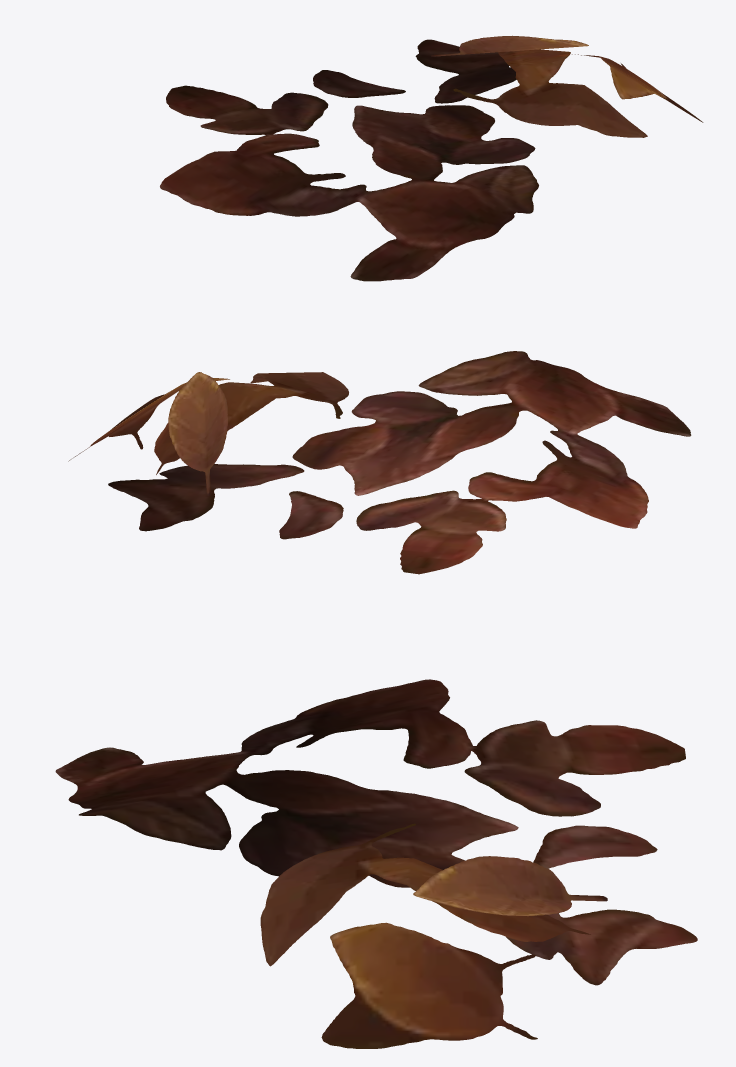
The picture shows the model from 3 angles, top to bottom: view 1: azimuth 30°, elevation 25°; view 2: azimuth 150°, elevation 25°; view 3: azimuth 270°, elevation 25°; orthographic projection. The views are drawn at different scales.
Bounding box in the file's own units: 2.01 × 0.2989 × 1.66.
Materials: 1 (1 with a texture image).
